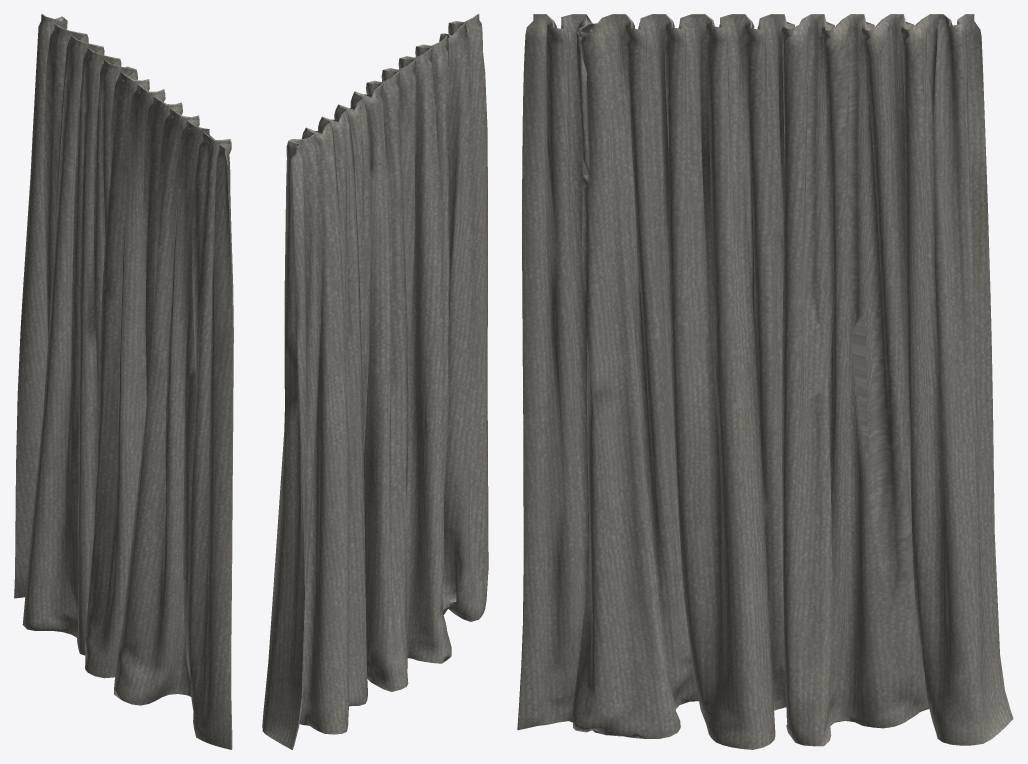
Rendered from SM_Curtain_01.fbx.
The picture shows the model from 3 angles, left to right: view 1: azimuth 30°, elevation 25°; view 2: azimuth 150°, elevation 25°; view 3: azimuth 270°, elevation 25°; orthographic projection. The views are drawn at different scales.
Visible parts, largest first — view 1: SM_Curtain_01_LOD0; view 2: SM_Curtain_01_LOD0; view 3: SM_Curtain_01_LOD0.
Part boxes in pixels (x1,y1,x2,y2): SM_Curtain_01_LOD0: [14, 14, 233, 749]; SM_Curtain_01_LOD0: [262, 14, 488, 749]; SM_Curtain_01_LOD0: [517, 14, 1013, 749].
Bounding box in the file's own units: 59.49 × 271 × 432.
Materials: 1 (1 with a texture image).
